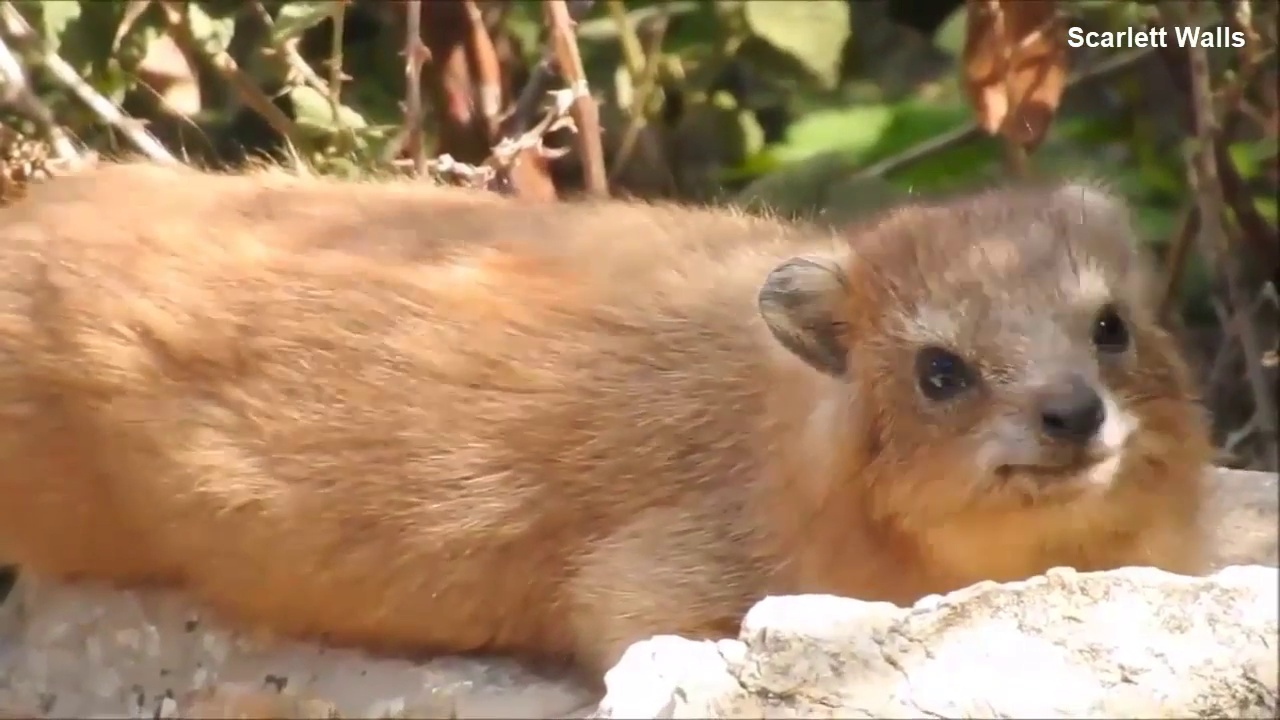Rock Hyrex: (1, 176, 1214, 626)
